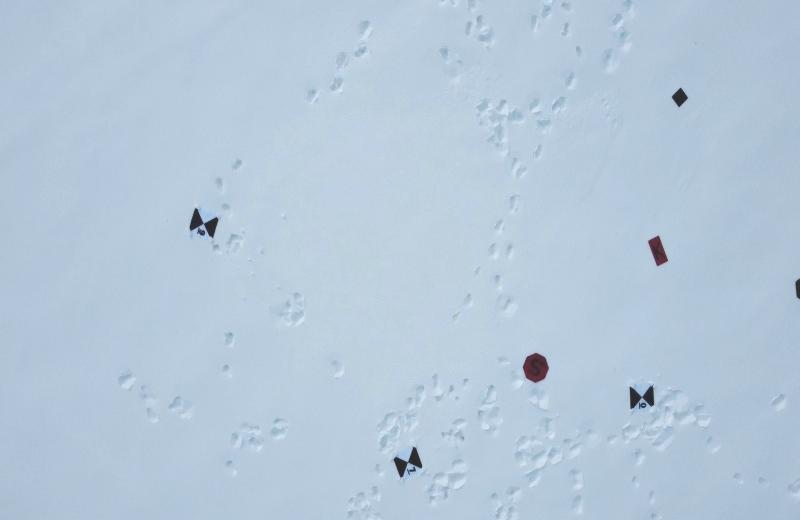Hexagon: (791, 276, 800, 306)
Octagon: (521, 350, 550, 386)
Rectangle: (646, 235, 672, 267)
Square: (670, 86, 689, 108)
